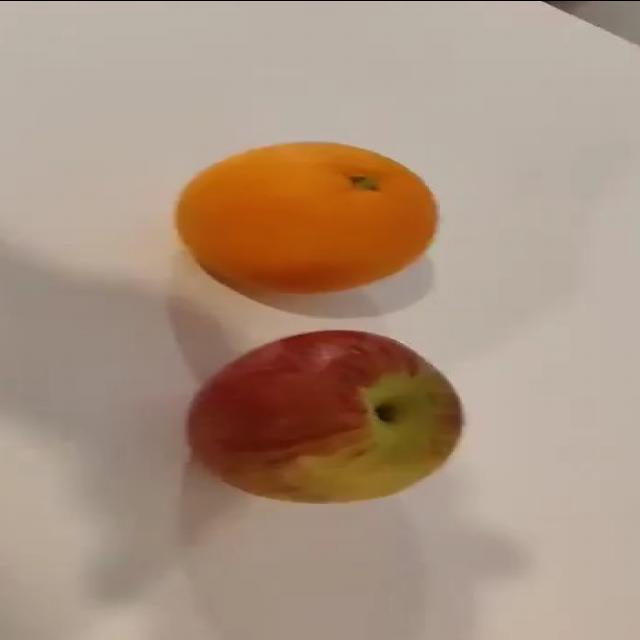Apple: (185, 328, 463, 504)
Orange: (174, 140, 439, 295)
